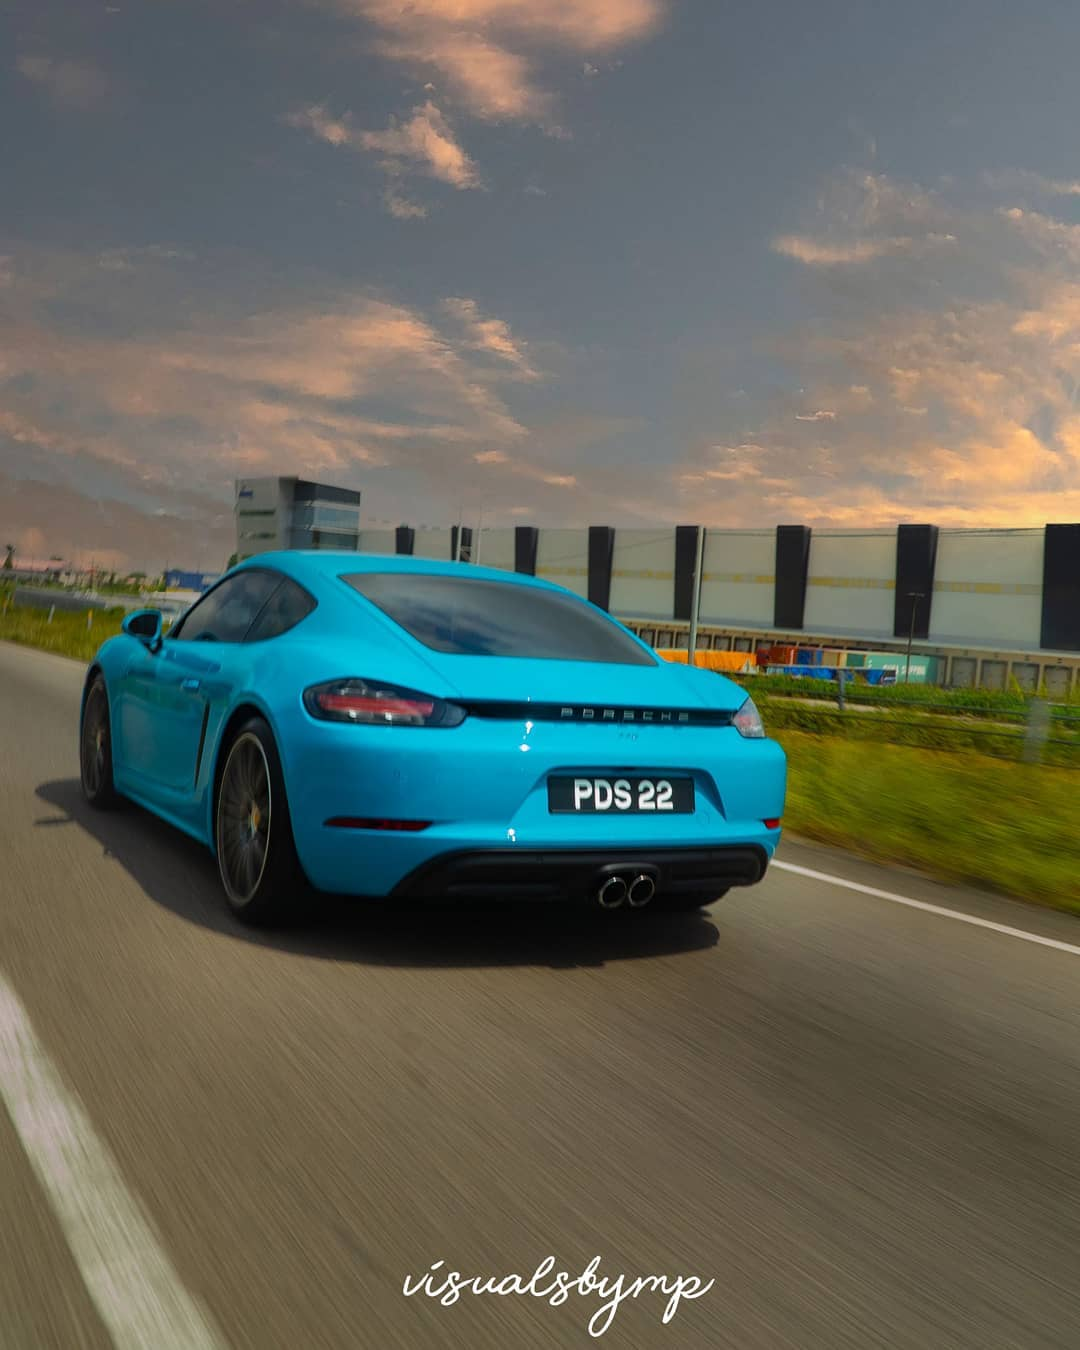License-Plate: (549, 776, 693, 811)
